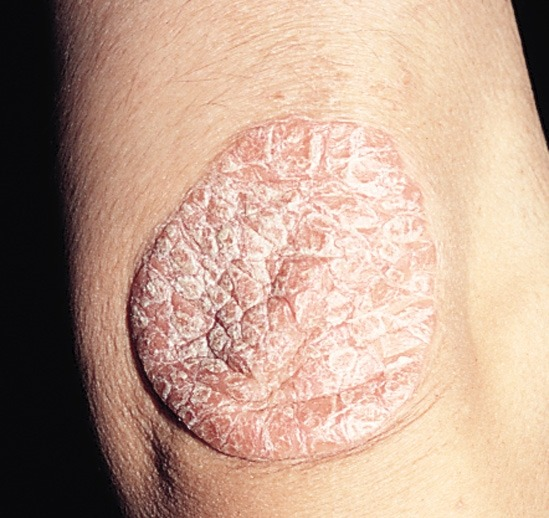Psoriasis: (131, 116, 450, 462)
